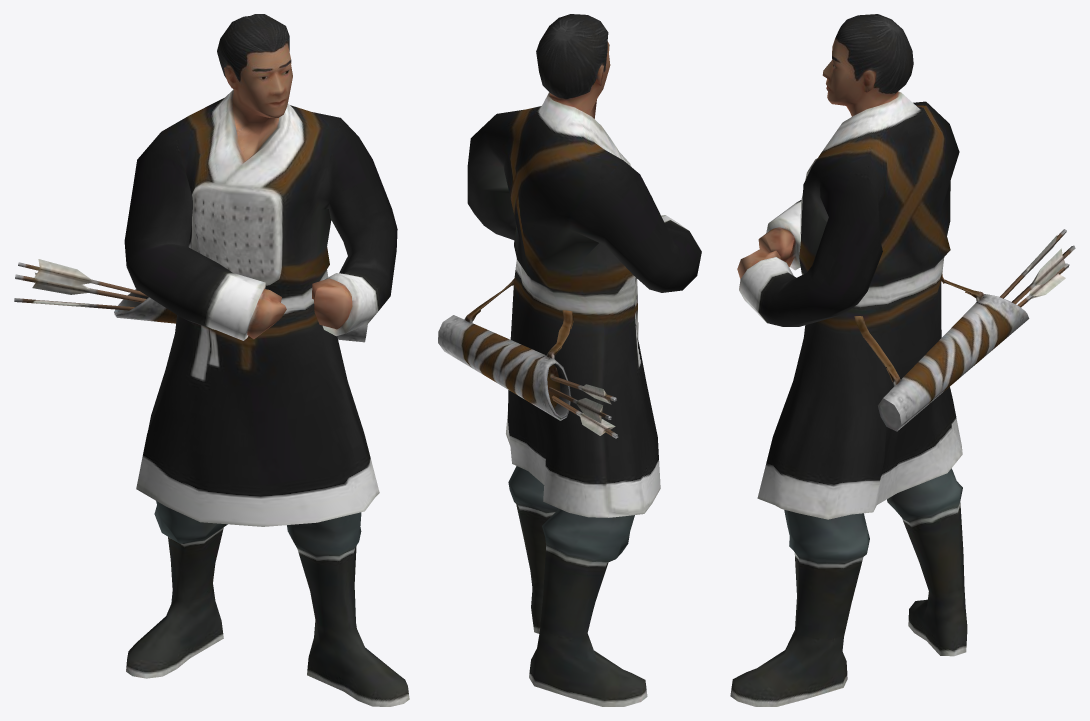
File: body-base.glb
3 views of the same model, side by side, from view 1: azimuth 30°, elevation 25°; view 2: azimuth 150°, elevation 25°; view 3: azimuth 270°, elevation 25° (orthographic). The views are drawn at different scales.
Bounding box in the file's own units: 0.8871 × 2.06 × 1.
1 material, 1 textured.
